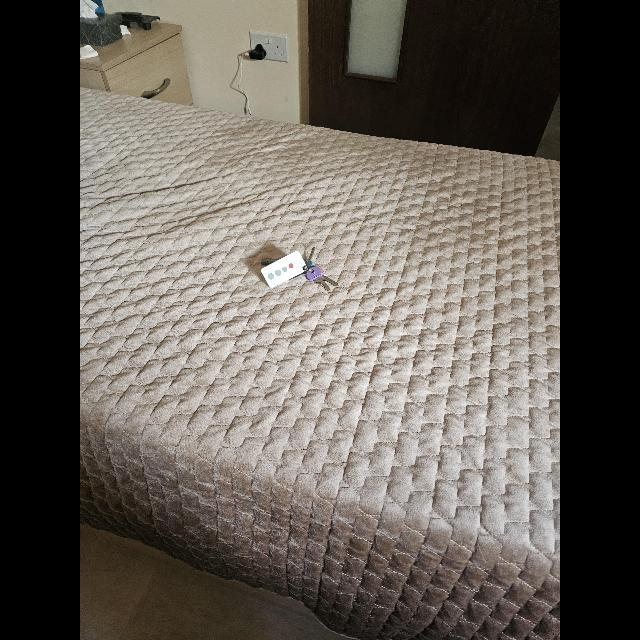Keys: (258, 245, 336, 292)
